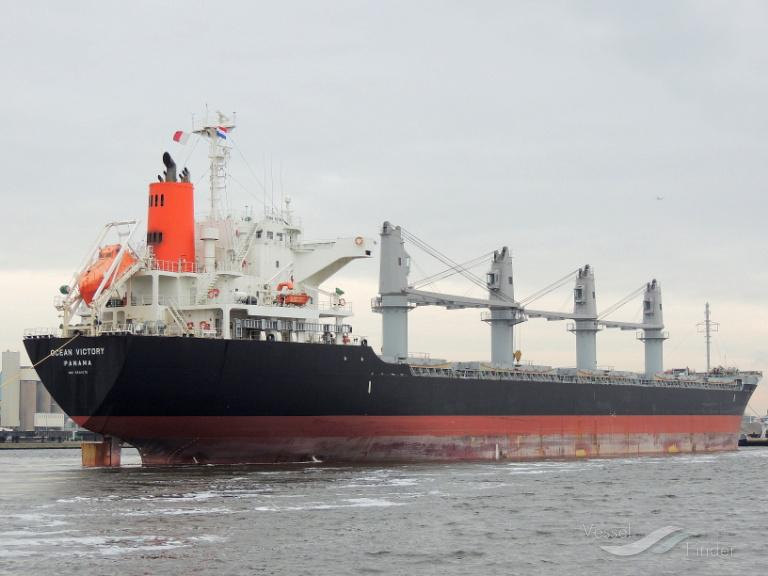OCR: (43, 348, 111, 378)
